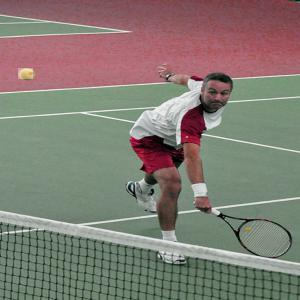TennisBall: (20, 69, 36, 81)
